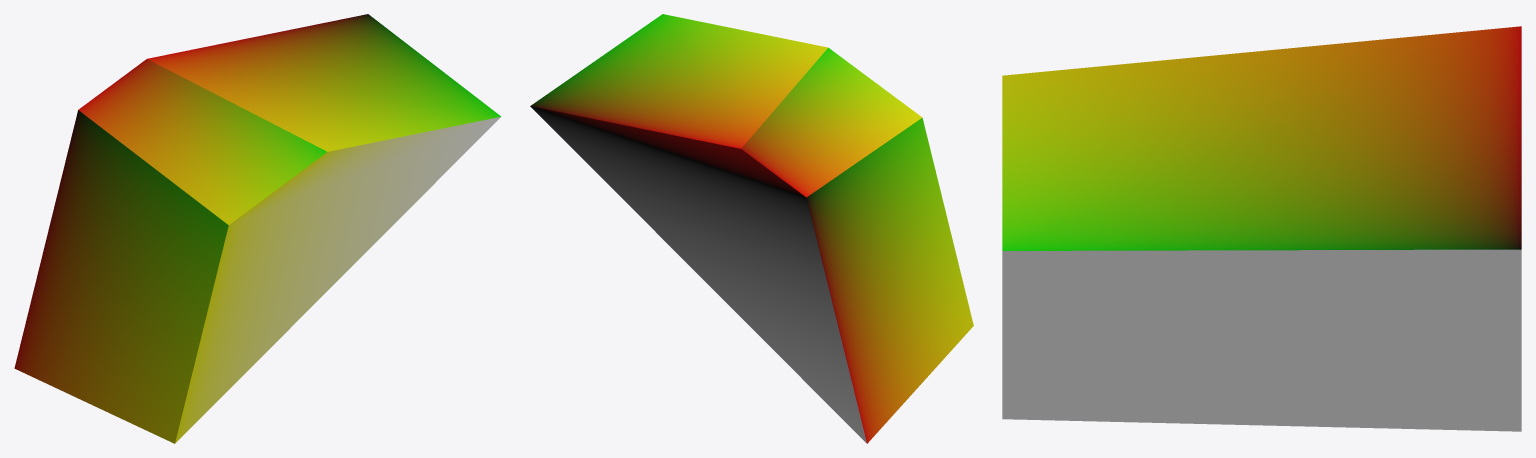
Rendered from Part_3_broken wall_10.fbx.
3 renders of one model, left to right at view 1: azimuth 30°, elevation 25°; view 2: azimuth 150°, elevation 25°; view 3: azimuth 270°, elevation 25°, orthographic. The views are drawn at different scales.
Visible parts, largest first — view 1: Part_3_broken wall_10; view 2: Part_3_broken wall_10; view 3: Part_3_broken wall_10.
Part boxes in pixels (left/top/right/bottom): Part_3_broken wall_10: left=14, top=14, right=501, bottom=443; Part_3_broken wall_10: left=530, top=14, right=973, bottom=443; Part_3_broken wall_10: left=1002, top=26, right=1521, bottom=431.
Size of the model in its own units: 3.14 by 2.35 by 2.09.
